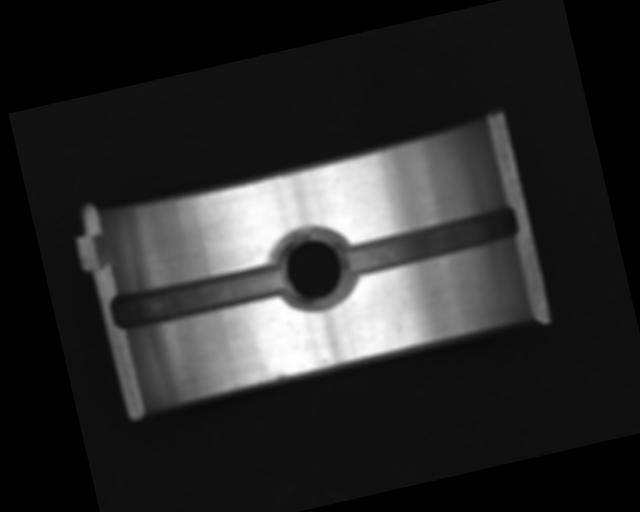gap: (337, 201, 522, 280), (108, 259, 287, 334)
hole: (268, 220, 361, 317)
